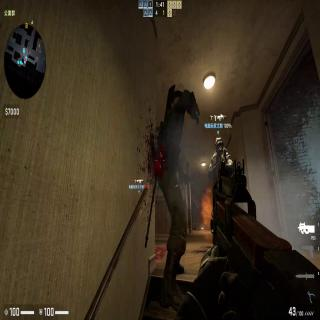CT-Head: (214, 137, 225, 153)
T-Body: (158, 86, 198, 272)
